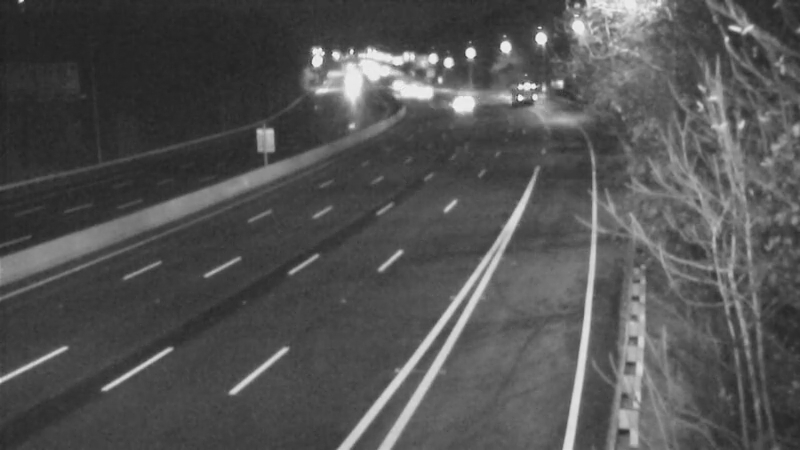vehicle: (372, 60, 422, 110), (399, 66, 449, 116), (383, 66, 433, 116), (498, 66, 548, 116), (433, 78, 483, 128)
